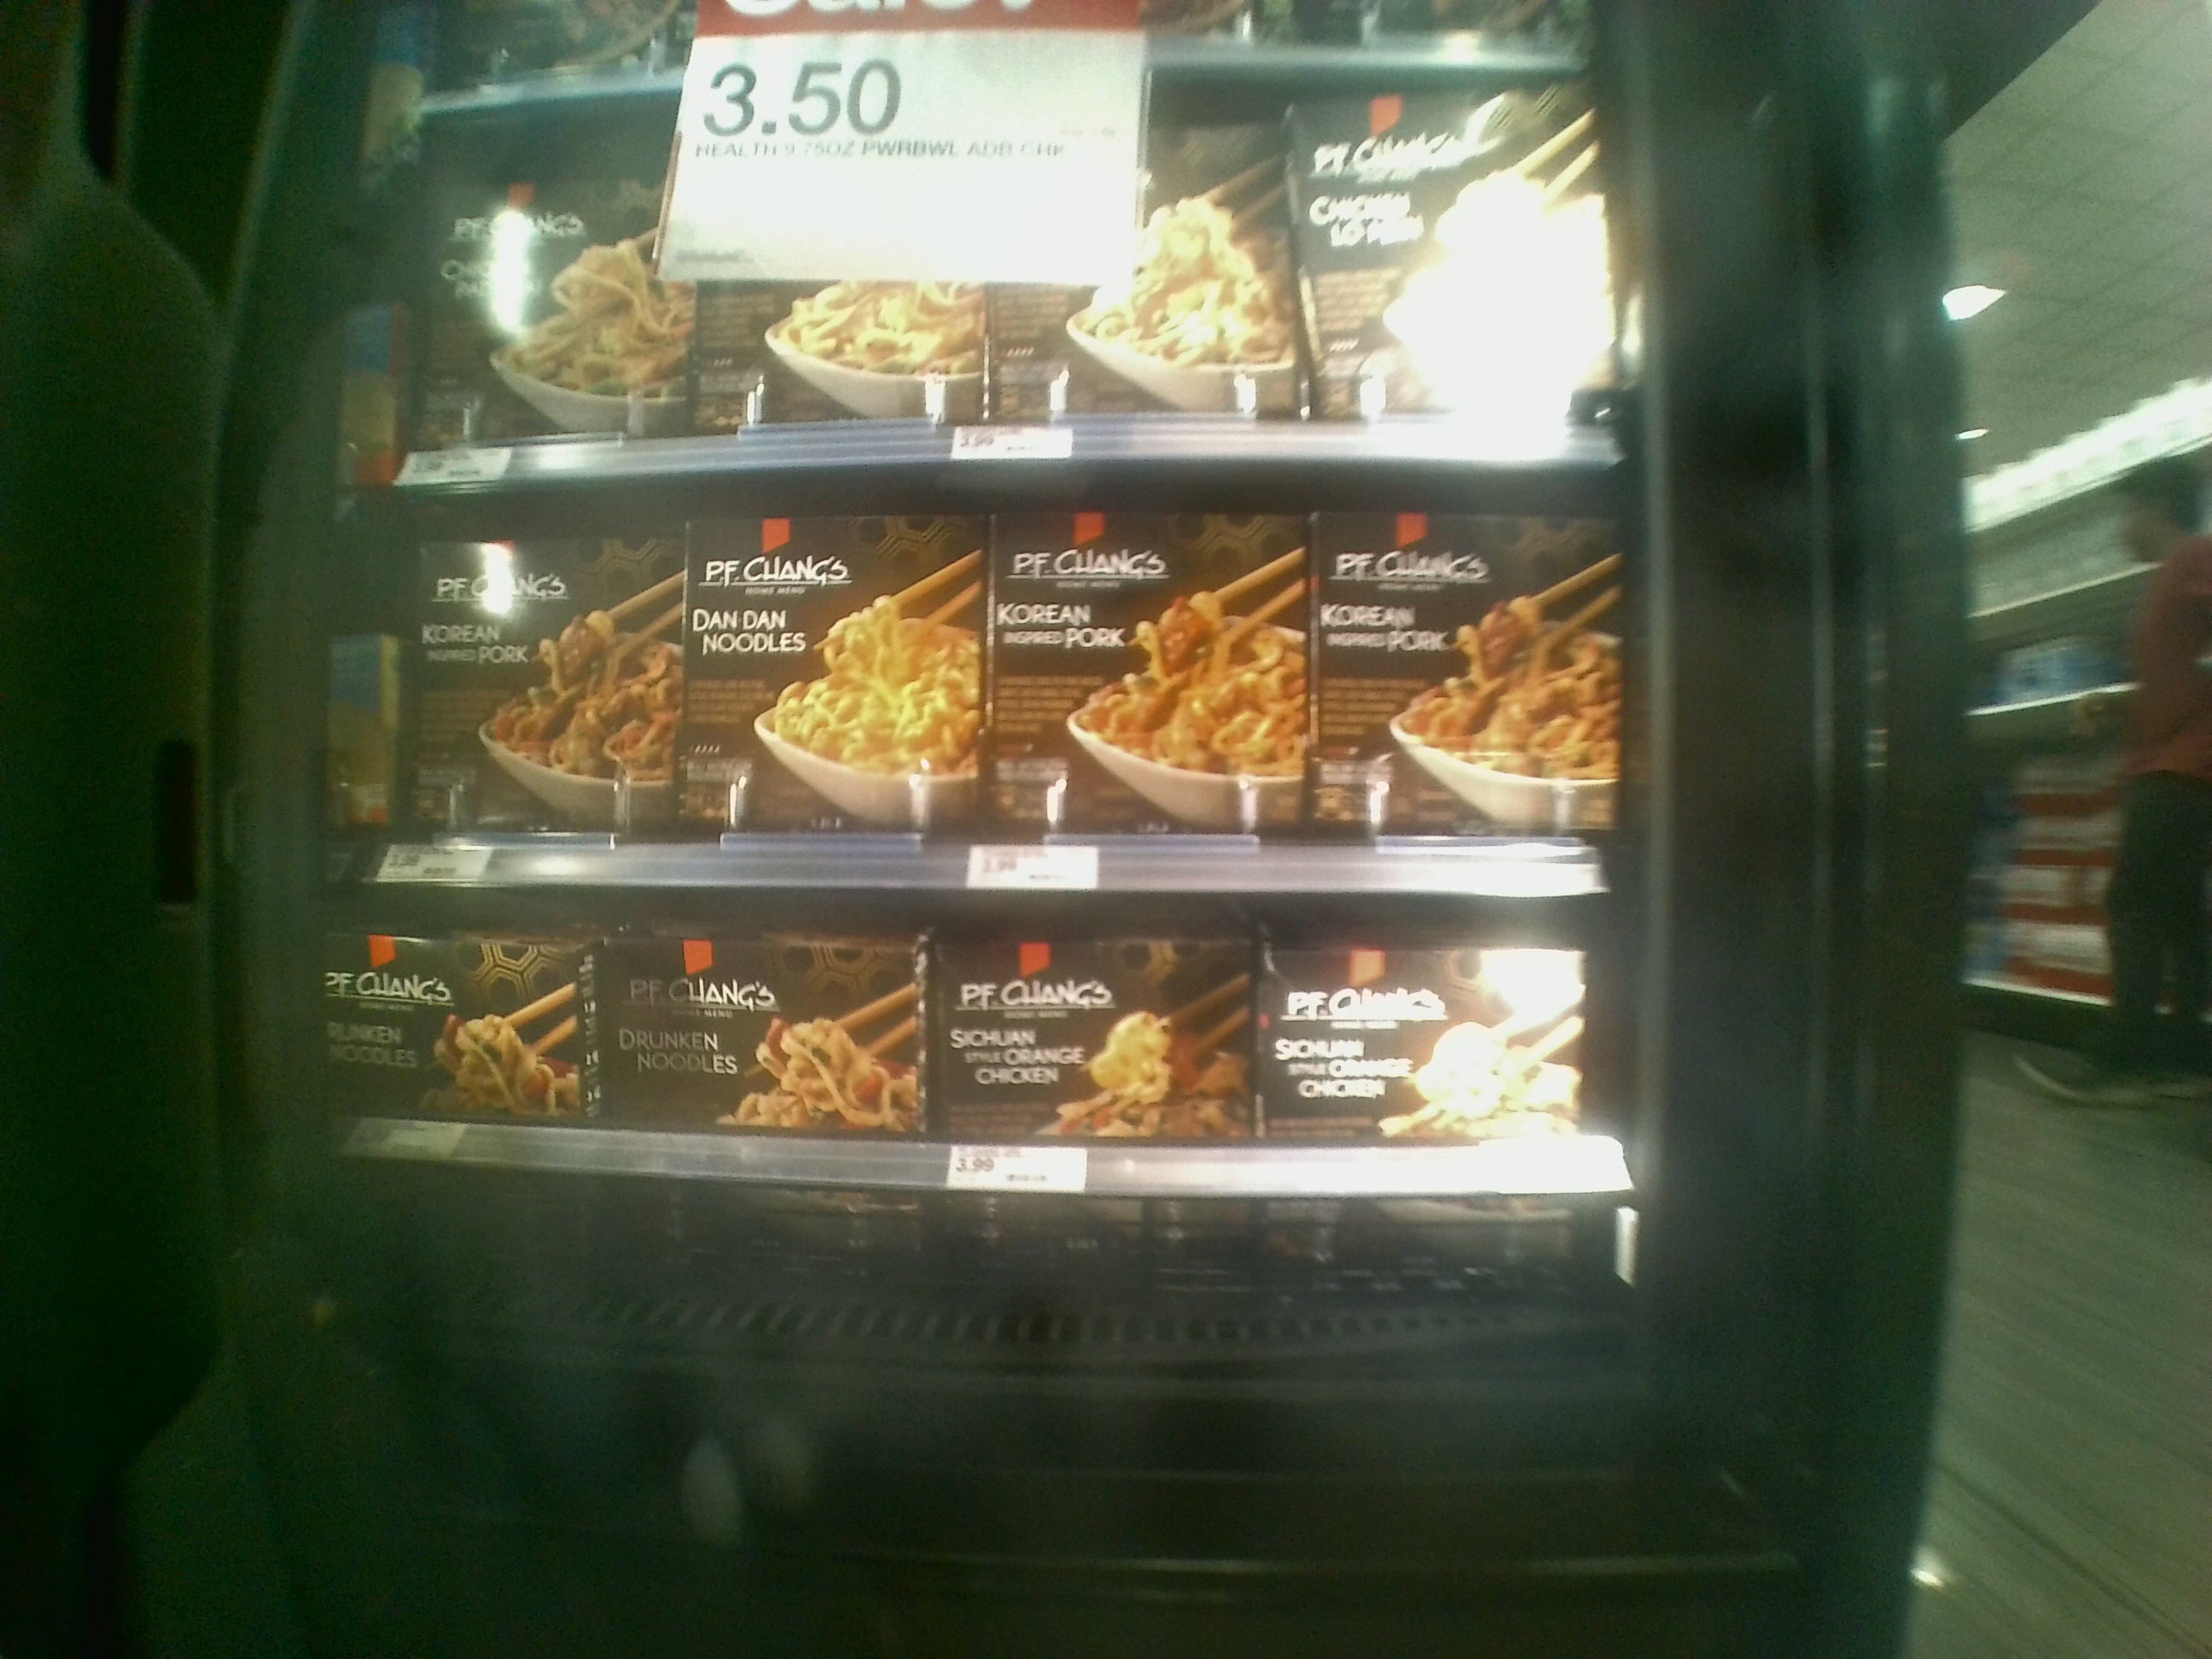shelf: (395, 472, 1622, 882), (362, 857, 1622, 1194)
